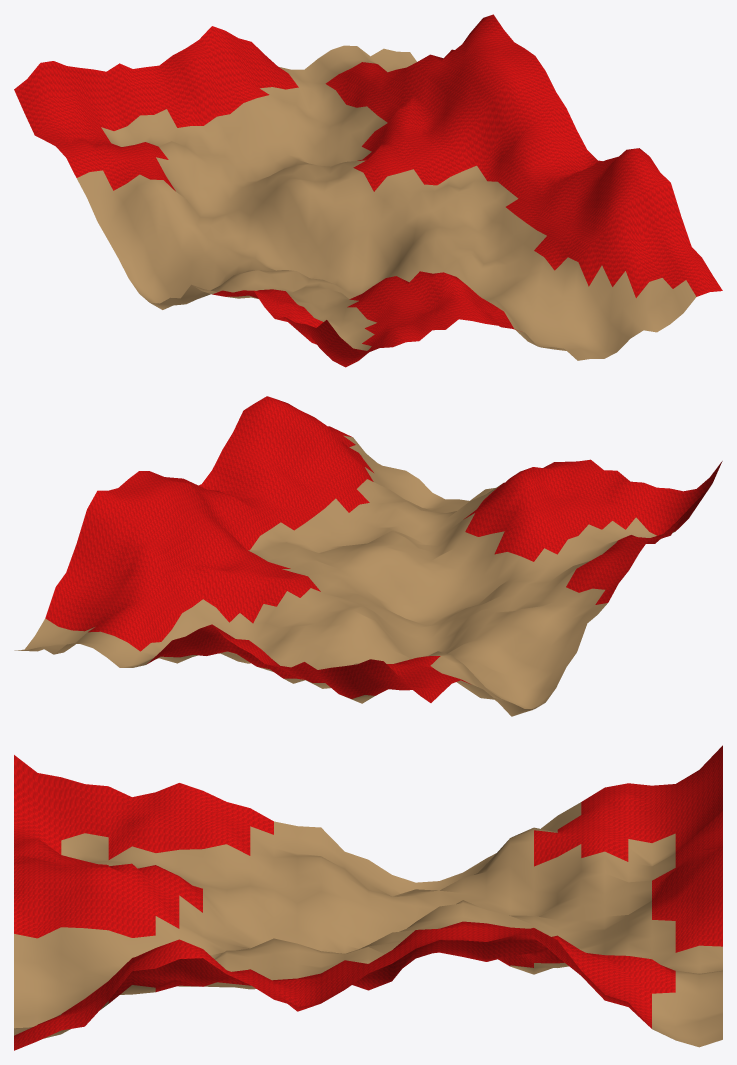
Rendered from kazan2.FBX.
The picture shows the model from 3 angles, top to bottom: view 1: azimuth 30°, elevation 25°; view 2: azimuth 150°, elevation 25°; view 3: azimuth 270°, elevation 25°; orthographic projection. The views are drawn at different scales.
Parts seen in each view (by area): view 1: Plane001; view 2: Plane001; view 3: Plane001.
Boxes of the visible parts, x1,y1,x2,y2 form: Plane001: (14,14,722,367); Plane001: (14,396,722,716); Plane001: (14,745,722,1050).
Size of the model in its own units: 99.17 by 39.28 by 136.
